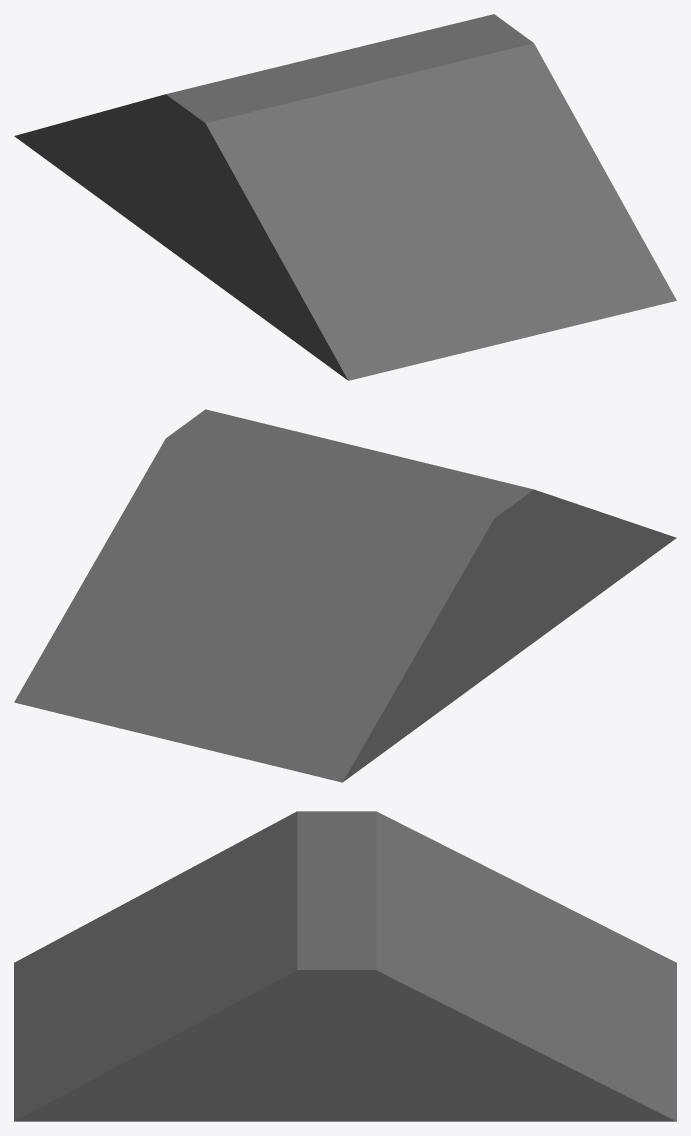
File: Collider_slope.FBX
3 renders of one model, top to bottom at view 1: azimuth 30°, elevation 25°; view 2: azimuth 150°, elevation 25°; view 3: azimuth 270°, elevation 25°, orthographic.
Parts seen in each view (by area): view 1: Collider_slope; view 2: Collider_slope; view 3: Collider_slope.
Part boxes in pixels (x1,y1,x2,y2): Collider_slope: [14, 14, 676, 380]; Collider_slope: [14, 409, 676, 782]; Collider_slope: [14, 811, 676, 1121].
Size of the model in its own units: 839 by 373 by 1480.
Materials: 1 (1 with a texture image).
